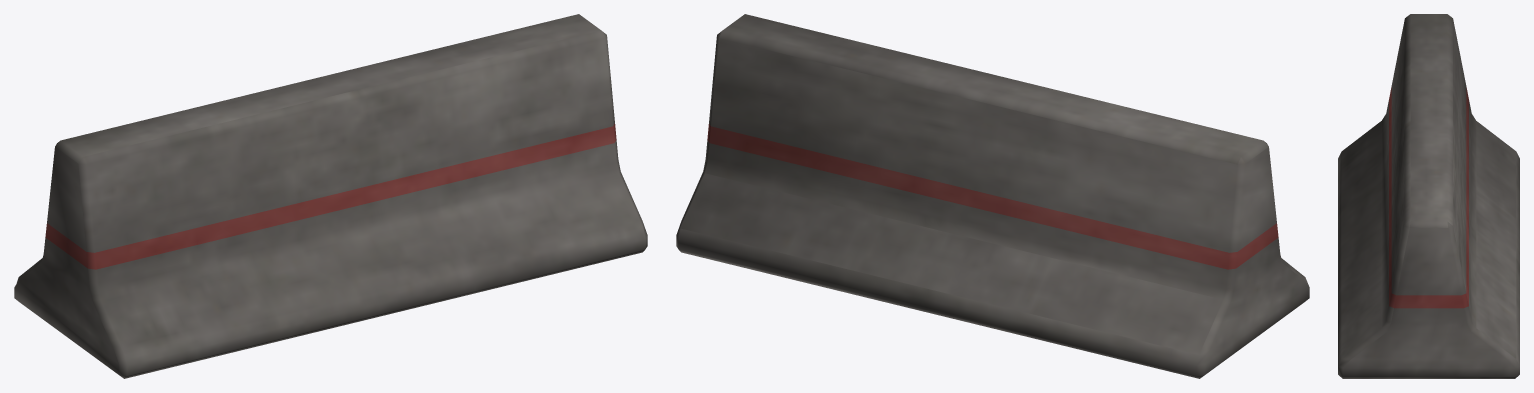
File: Barriere.fbx
The picture shows the model from 3 angles, left to right: view 1: azimuth 30°, elevation 25°; view 2: azimuth 150°, elevation 25°; view 3: azimuth 270°, elevation 25°; orthographic projection. The views are drawn at different scales.
Parts seen in each view (by area): view 1: Cube.004; view 2: Cube.004; view 3: Cube.004.
Part boxes in pixels (bbox=[...]): Cube.004: bbox=[14, 14, 647, 378]; Cube.004: bbox=[676, 14, 1309, 378]; Cube.004: bbox=[1338, 14, 1519, 378].
Bounding box in the file's own units: 300 × 104 × 109.
